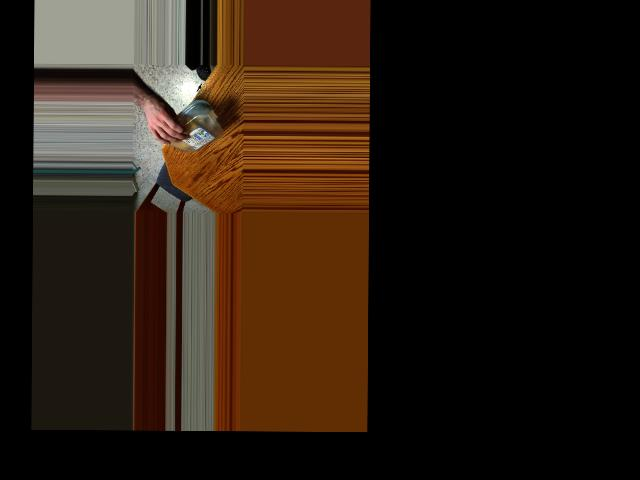cheese: (156, 102, 224, 153)
